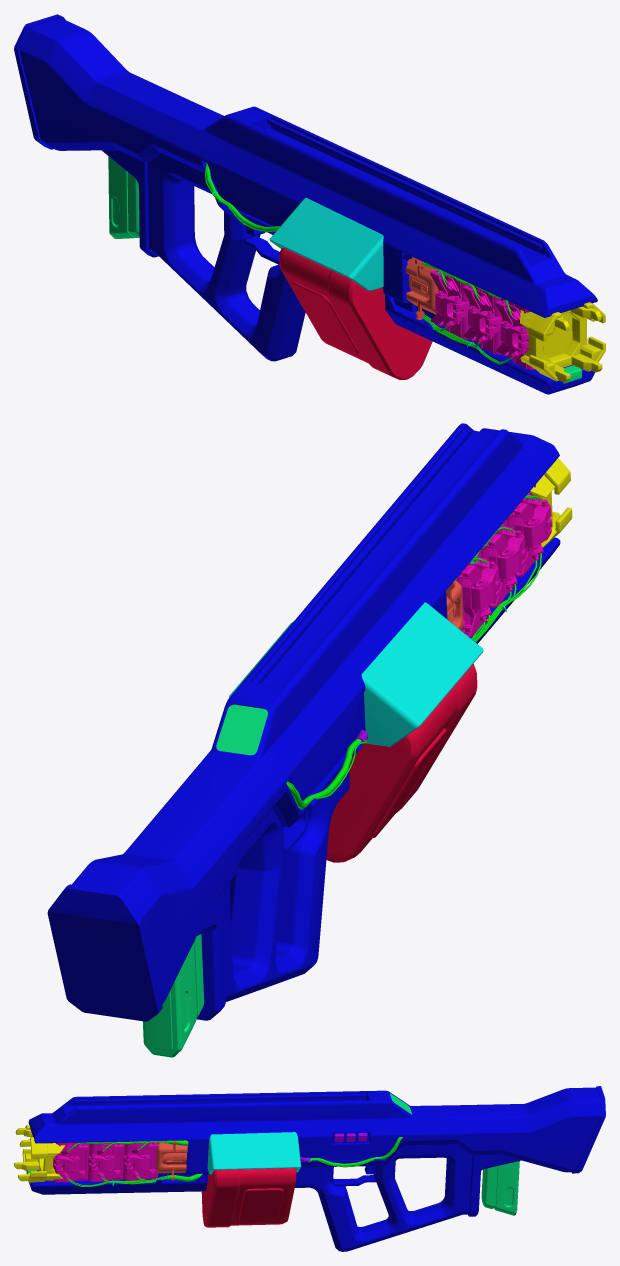
The model's file is Multitool.fbx.
3 renders of one model, top to bottom at view 1: azimuth 30°, elevation 25°; view 2: azimuth 150°, elevation 25°; view 3: azimuth 270°, elevation 25°, orthographic. The views are drawn at different scales.
Visible parts, largest first — view 1: Multitool; view 2: Multitool; view 3: Multitool.
Boxes of the visible parts, box(x1,y1,x2,y2) form: Multitool: box(14, 14, 605, 394); Multitool: box(47, 423, 572, 1057); Multitool: box(14, 1086, 605, 1251).
Bounding box in the file's own units: 0.3096 × 0.4161 × 1.35.
